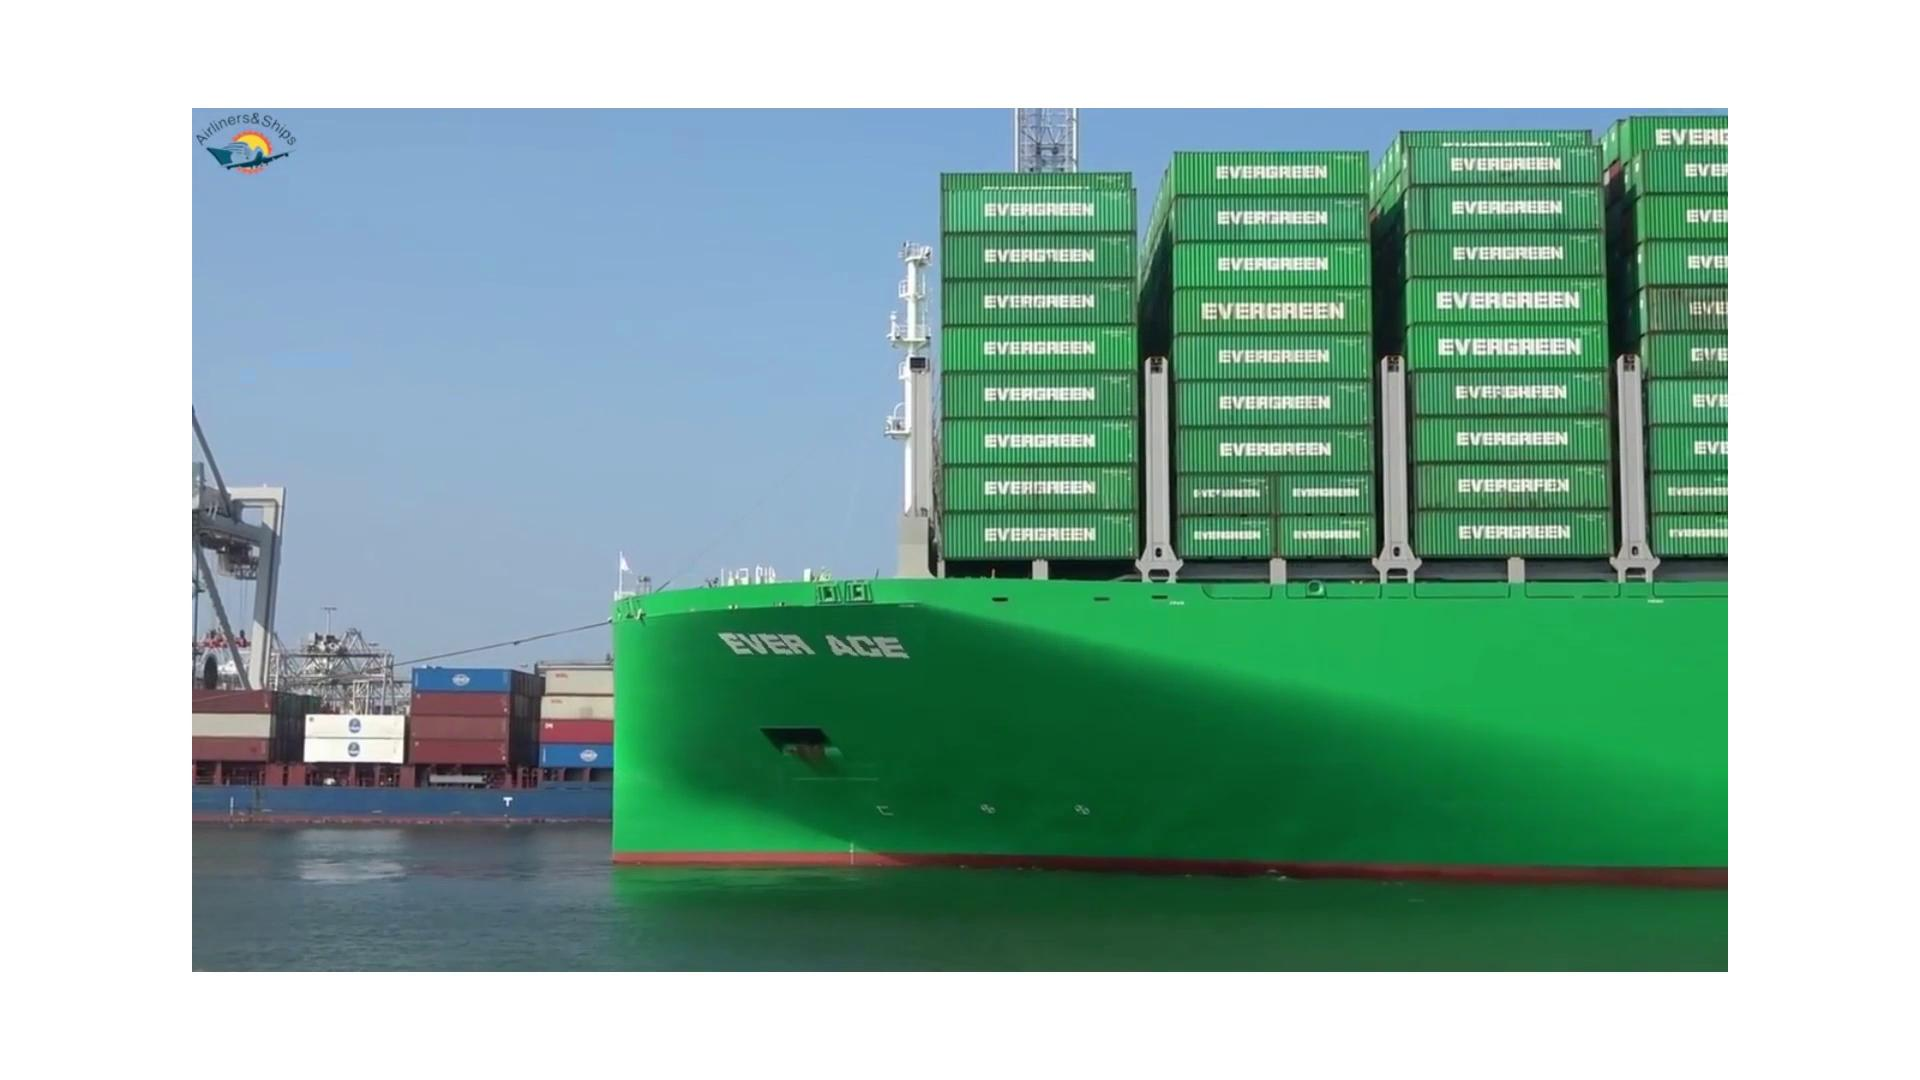OCR: (703, 609, 924, 678)
